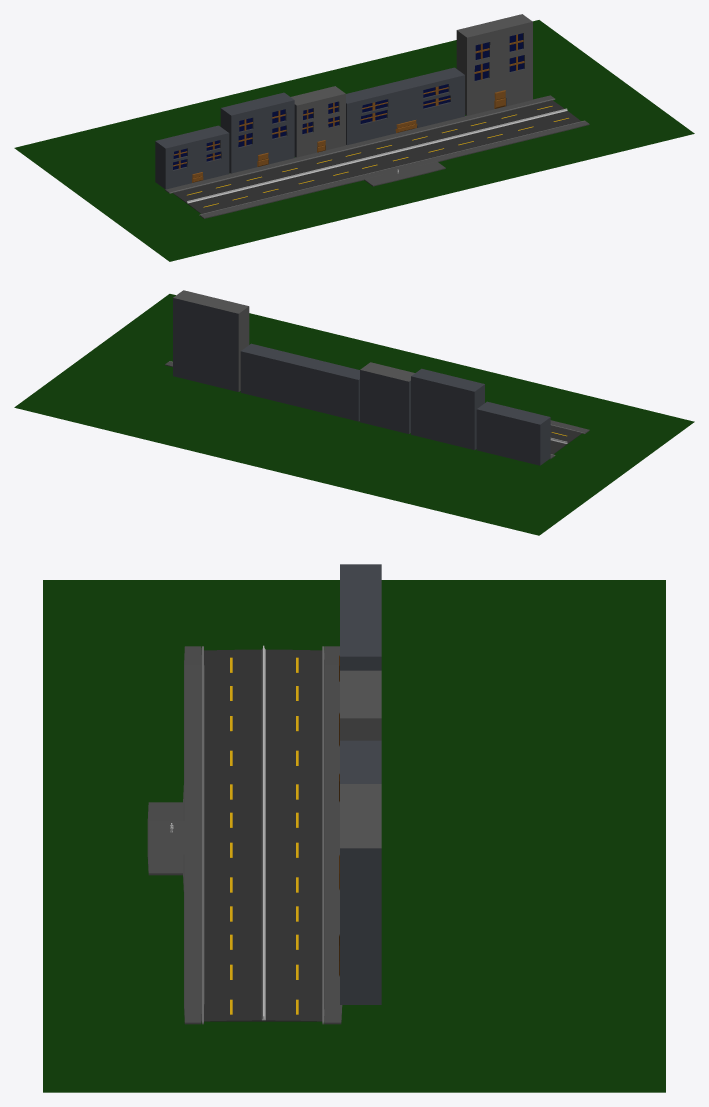
File: RoadToFreedom.fbx
The picture shows the model from 3 angles, top to bottom: view 1: azimuth 30°, elevation 25°; view 2: azimuth 150°, elevation 25°; view 3: azimuth 270°, elevation 25°; orthographic projection. The views are drawn at different scales.
Parts seen in each view (by area): view 1: Plane.001, Plane, Cube.033, Cube.032, Cube.030, Cube.029, Cube.031, Cube.025, Cube.027, Cube, Cube.028, Cube.026; view 2: Plane.001, Cube.033, Cube.032, Cube.030, Cube.029, Cube.031, Plane; view 3: Plane.001, Plane, Cube.025, Cube.033, Cube.027, Cube.030, Cube.031, Cube.032, Cube, Cube.029, Cube.026.
Part boxes in pixels (x1,y1,x2,y2): Plane.001: [14, 20, 694, 261]; Plane: [173, 100, 580, 213]; Cube.033: [456, 14, 532, 115]; Cube.032: [346, 67, 464, 145]; Cube.030: [220, 92, 294, 173]; Cube.029: [155, 125, 229, 189]; Cube.031: [291, 86, 345, 157]; Cube.025: [200, 121, 589, 218]; Cube.027: [165, 95, 554, 192]; Cube: [187, 108, 567, 203]; Cube.028: [169, 98, 555, 193]; Cube.026: [199, 120, 584, 215]; Plane.001: [14, 294, 694, 535]; Cube.033: [173, 290, 249, 391]; Cube.032: [240, 343, 359, 421]; Cube.030: [411, 368, 484, 450]; Cube.029: [476, 401, 550, 465]; Cube.031: [360, 362, 414, 433]; Plane: [550, 426, 581, 454]; Plane.001: [43, 580, 665, 1092]; Plane: [201, 649, 324, 1021]; Cube.025: [147, 646, 201, 1024]; Cube.033: [339, 784, 381, 1004]; Cube.027: [324, 646, 342, 1024]; Cube.030: [339, 594, 381, 746]; Cube.031: [339, 670, 381, 801]; Cube.032: [339, 740, 381, 889]; Cube: [261, 645, 265, 1020]; Cube.029: [339, 564, 381, 681]; Cube.026: [202, 646, 204, 1024].
Size of the model in its own units: 26932 by 3907 by 13831.
